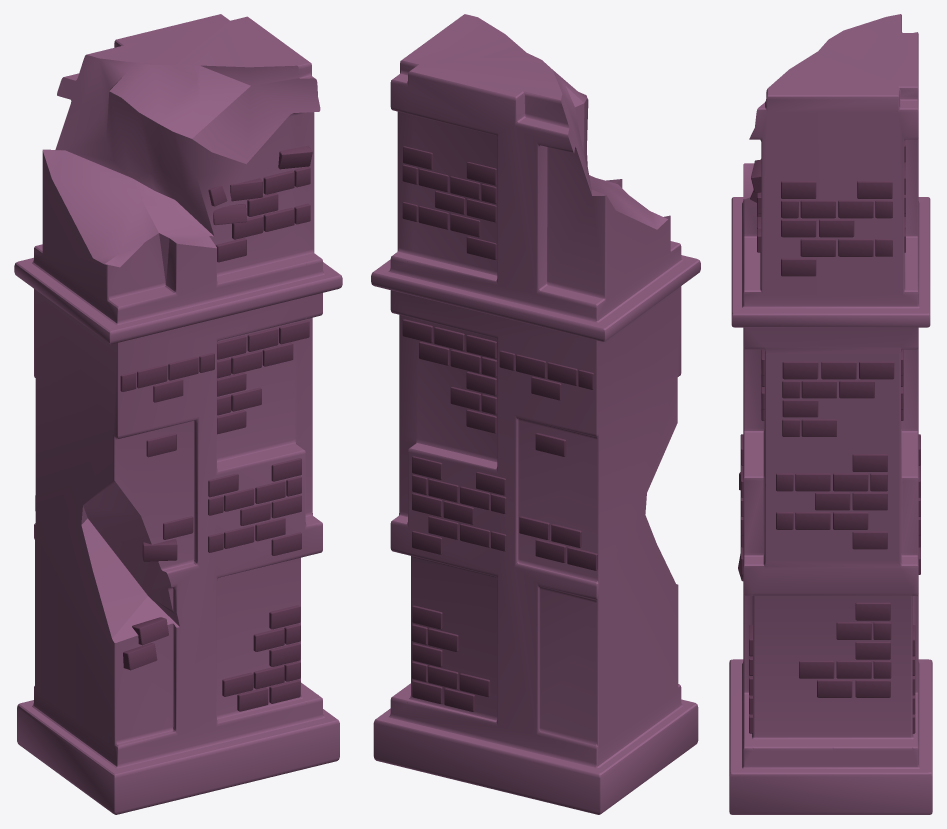
The model's file is Destructed_Pillar (1).fbx.
3 views of the same model, side by side, from view 1: azimuth 30°, elevation 25°; view 2: azimuth 150°, elevation 25°; view 3: azimuth 270°, elevation 25° (orthographic). The views are drawn at different scales.
Visible parts, largest first — view 1: Pillar_Destruct; view 2: Pillar_Destruct; view 3: Pillar_Destruct.
Boxes of the visible parts, x1=… form: Pillar_Destruct: x1=14, y1=14, x2=342, y2=814; Pillar_Destruct: x1=371, y1=14, x2=700, y2=814; Pillar_Destruct: x1=729, y1=14, x2=932, y2=814.
Bounding box in the file's own units: 375 × 1058 × 272.
